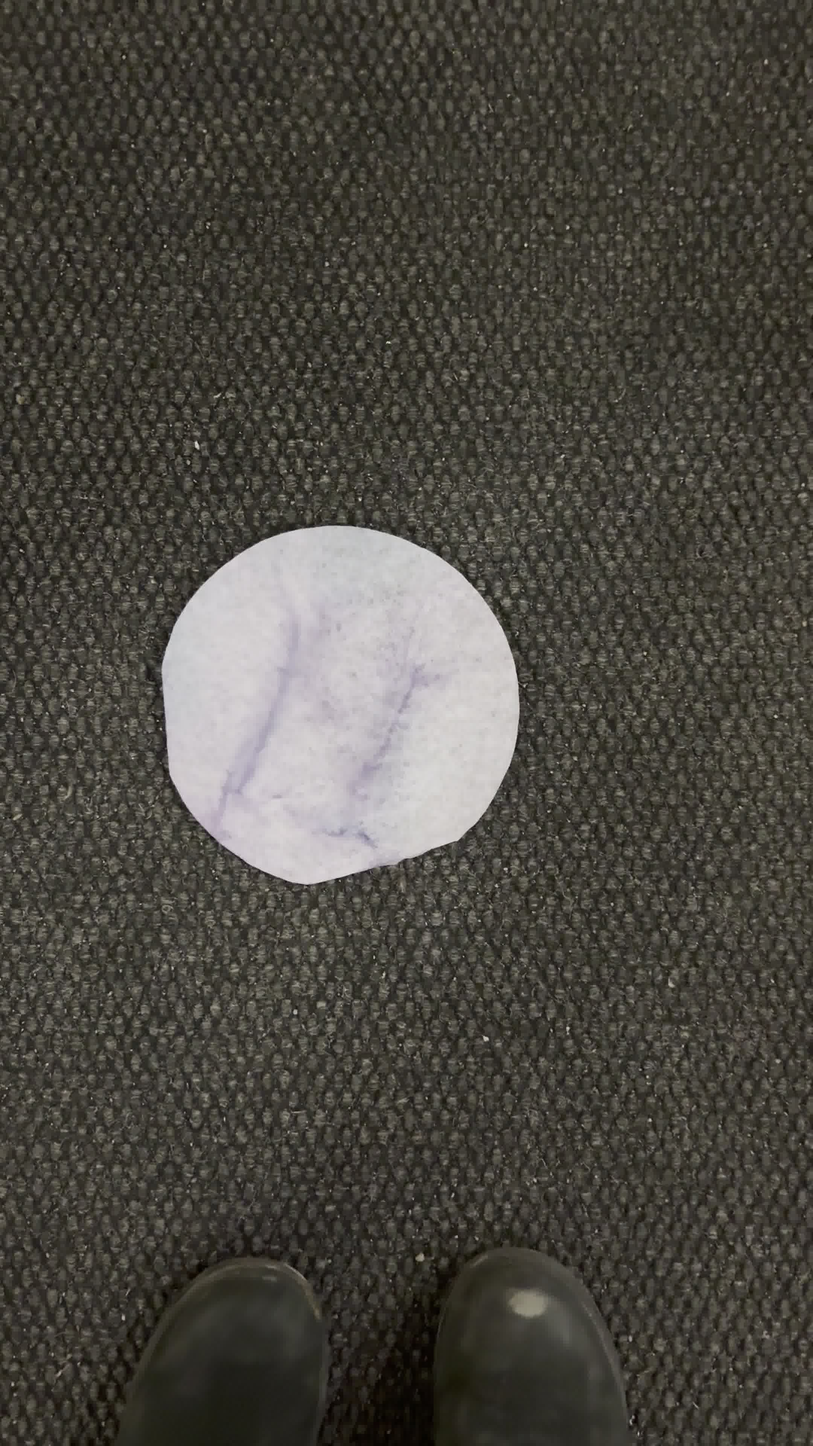Target: (156, 523, 522, 884)
